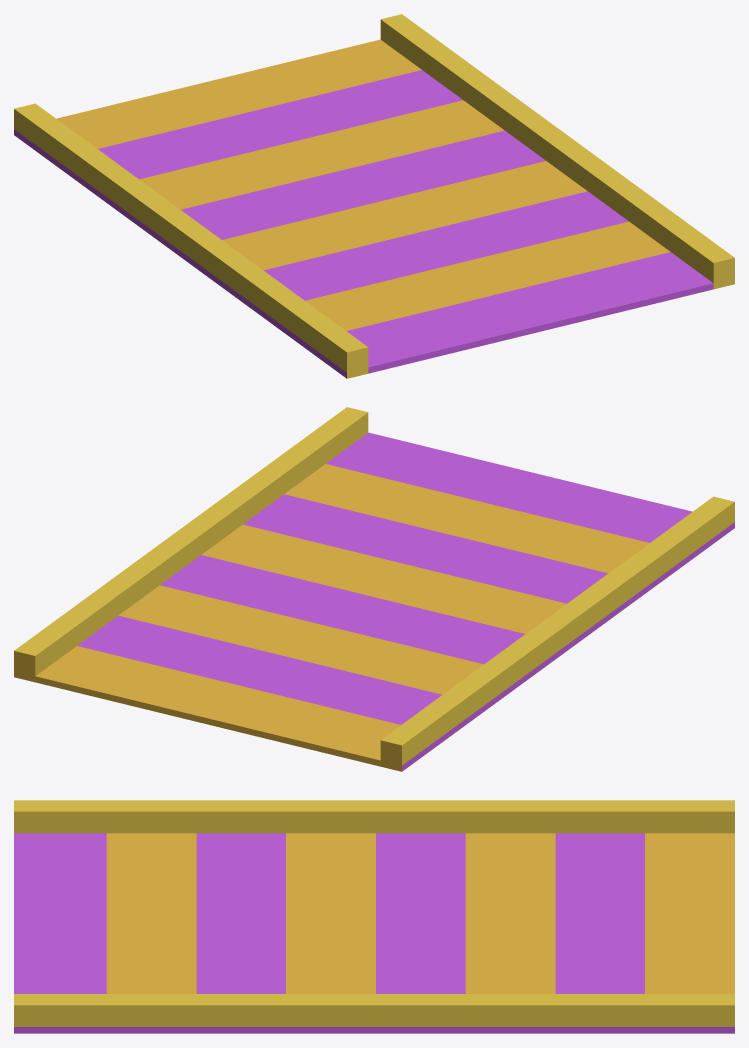
File: Trasssa.fbx
The picture shows the model from 3 angles, top to bottom: view 1: azimuth 30°, elevation 25°; view 2: azimuth 150°, elevation 25°; view 3: azimuth 270°, elevation 25°; orthographic projection. The views are drawn at different scales.
Parts seen in each view (by area): view 1: Trass.002; view 2: Trass.002; view 3: Trass.002.
Boxes of the visible parts, x1,y1,x2,y2 form: Trass.002: (14,14,734,378); Trass.002: (14,407,734,771); Trass.002: (14,800,734,1033).
Bounding box in the file's own units: 1078 × 70.13 × 1603.
